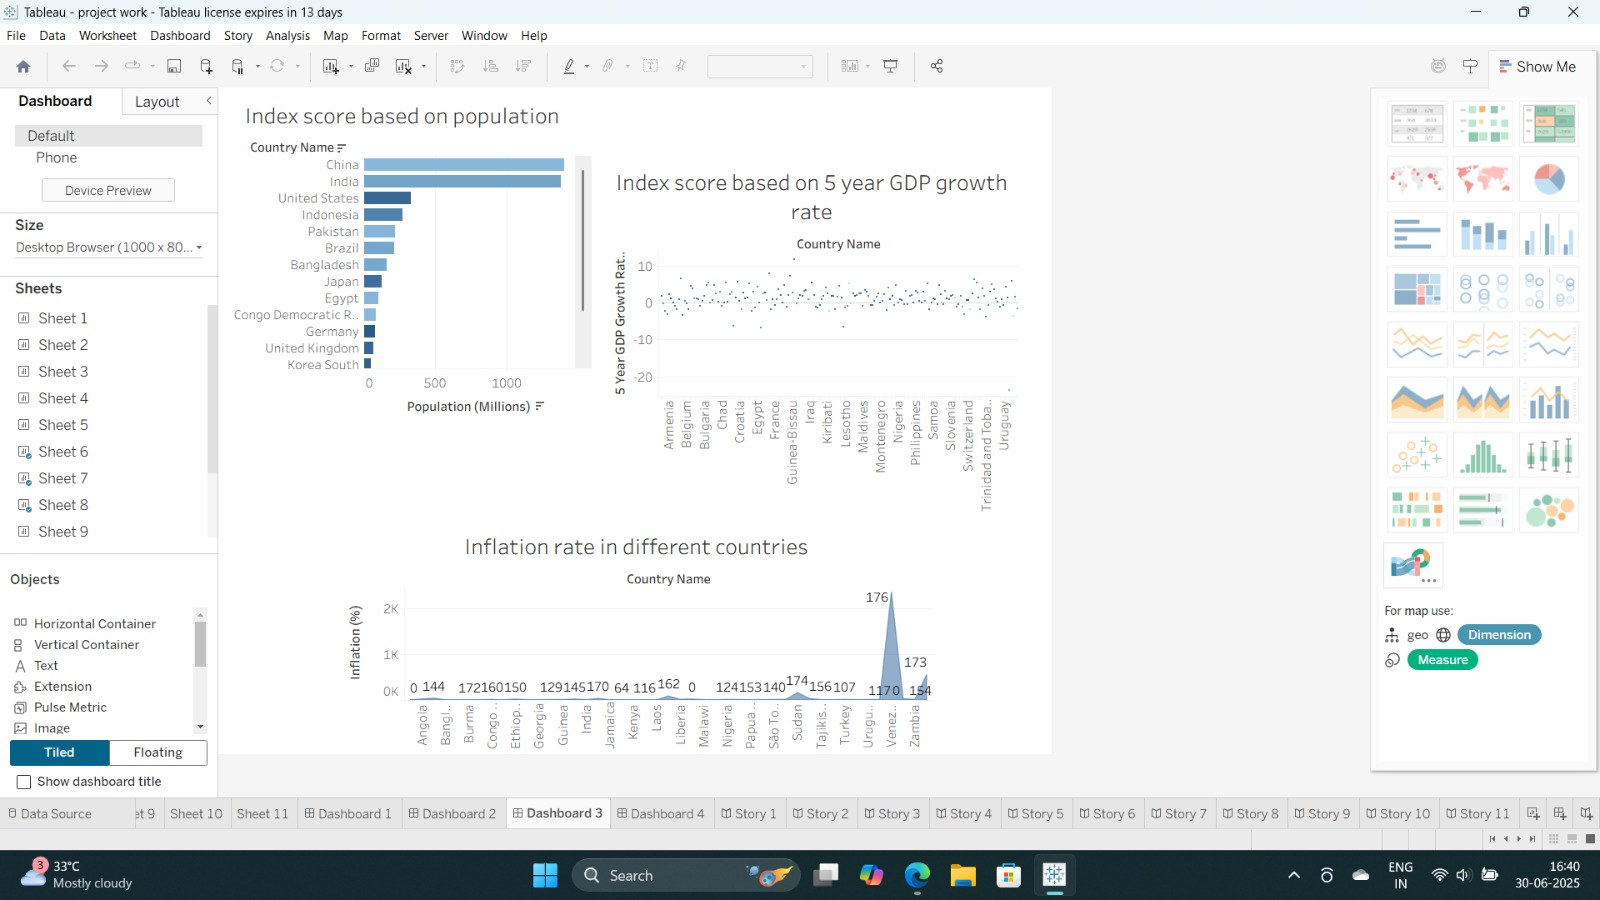

The page's visual inventory and layout, read from the dashboard file:
{"tool":"tableau","page":{"name":"Dashboard 3","canvas":[1000,800],"ordinal":2},"visuals":[{"type":"worksheet","title":"Sheet 6","mark":"Automatic","rows":["Country Name"],"cols":["Population (Millions)"],"box":[14,12,434,388]},{"type":"worksheet","title":"Sheet 7","mark":"GanttBar","rows":["5 Year GDP Growth Rate (%)"],"cols":["Country Name"],"box":[464,92,496,418]},{"type":"worksheet","title":"Sheet 8","mark":"Area","rows":["Inflation (%)"],"cols":["Country Name"],"box":[146,529,711,266]}]}

Visuals, with their boxes on the page's 1000x800 design canvas (x1, y1, x2, y2). These are canvas units, not pixel positions in the 1600x900 screenshot, which may show the page scaled, cropped or inside an application window:
"Sheet 6" worksheet: left=14, top=12, right=448, bottom=400
"Sheet 7" worksheet (GanttBar marks): left=464, top=92, right=960, bottom=510
"Sheet 8" worksheet (Area marks): left=146, top=529, right=857, bottom=795
